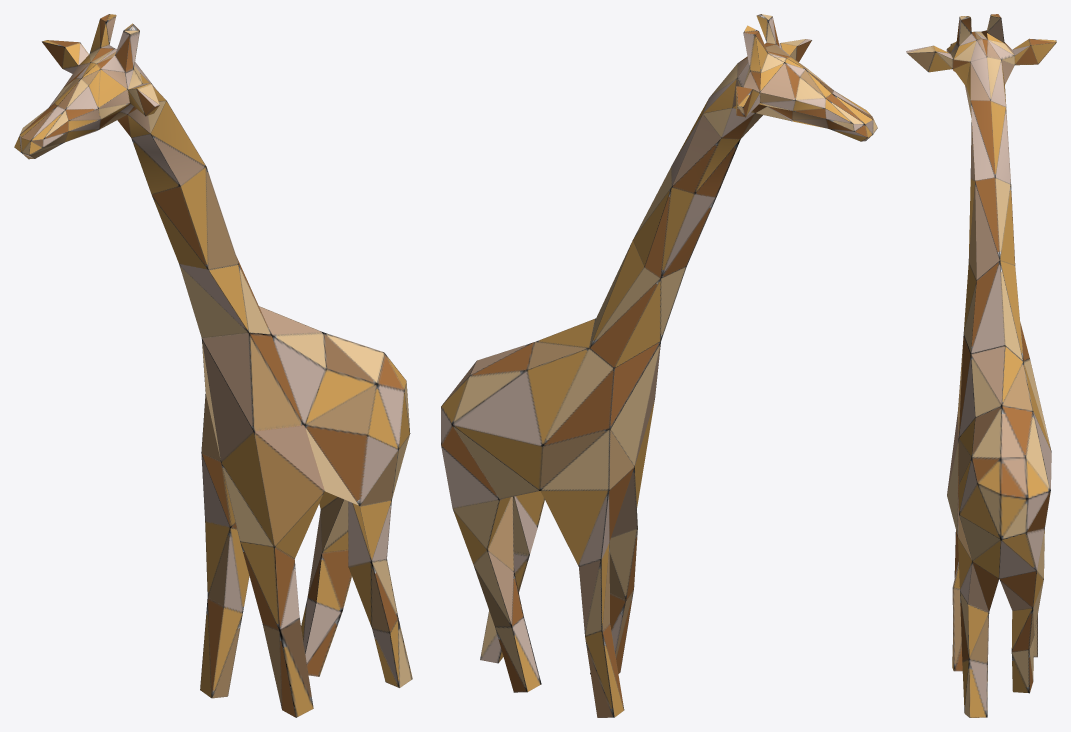
The model's file is Giraffe.gltf.
3 renders of one model, left to right at view 1: azimuth 30°, elevation 25°; view 2: azimuth 150°, elevation 25°; view 3: azimuth 270°, elevation 25°, orthographic. The views are drawn at different scales.
Parts seen in each view (by area): view 1: Giraffe_Cube.003; view 2: Giraffe_Cube.003; view 3: Giraffe_Cube.003.
Boxes of the visible parts, bbox=[...] form: Giraffe_Cube.003: bbox=[14, 14, 412, 717]; Giraffe_Cube.003: bbox=[441, 14, 877, 717]; Giraffe_Cube.003: bbox=[906, 14, 1056, 717].
Bounding box in the file's own units: 15.76 × 26.51 × 6.12.
Materials: 1 (1 with a texture image).
